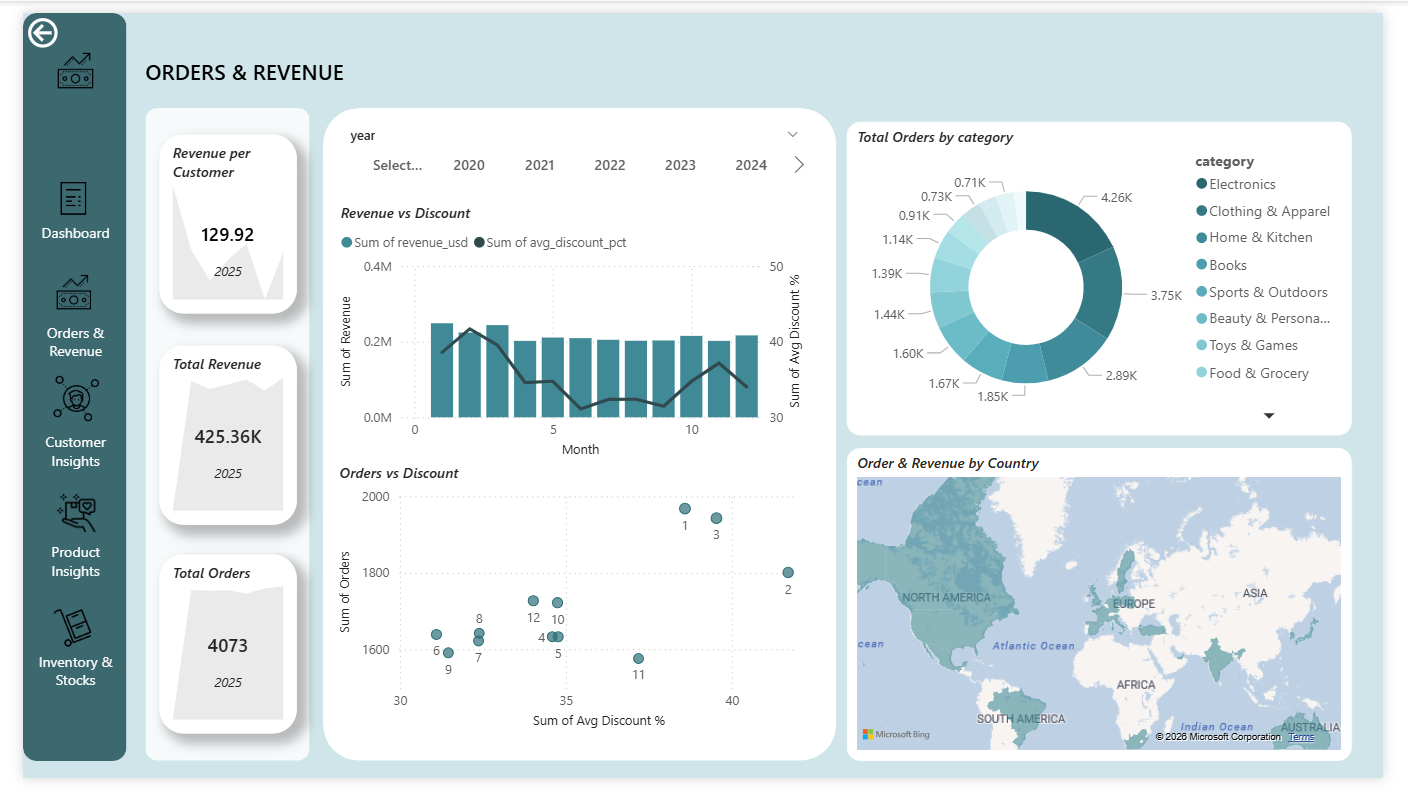

The dashboard page shown, as its layout file describes it:
{"tool":"powerbi","page":{"name":"Orders & Revenue","canvas":[1280,720],"ordinal":1},"visuals":[{"type":"shape","box":[115.6,89.6,154.5,614.3],"z":0},{"type":"kpi","title":"Revenue per Customer","fields":{"Indicator":["Date_Table.Revenue per Customer"],"TrendLine":["Date_Table.Year"]},"box":[128.6,114.3,129.9,168.8],"z":1000},{"type":"shape","box":[281.8,89.6,483.1,614.3],"z":2000},{"type":"filledMap","title":"Order & Revenue by Country","fields":{"Category":["customers.country"]},"box":[775.7,409,475.3,294.4],"z":3000},{"type":"donutChart","title":"Total Orders by category","fields":{"Category":["product_summary.category"],"Y":["product_summary.Total Orders (Category)"]},"box":[775.3,102.6,475.3,294.8],"z":4000},{"type":"scatterChart","title":"Orders vs Discount","fields":{"X":["Sum(monthly_revenue.avg_discount_pct)"],"Y":["Sum(monthly_revenue.orders)"],"Size":["Sum(monthly_revenue.revenue_usd)"],"Category":["monthly_revenue.month"]},"box":[293.2,423.5,448.8,254.6],"z":5000},{"type":"lineClusteredColumnComboChart","title":"Revenue vs Discount","fields":{"Category":["monthly_revenue.month"],"Y":["Sum(monthly_revenue.revenue_usd)"],"Y2":["Sum(monthly_revenue.avg_discount_pct)"]},"box":[294.4,178.6,447.6,244.9],"z":6000},{"type":"slicer","fields":{"Values":["monthly_revenue.year"]},"box":[295.6,102.5,446.4,62.7],"z":7000},{"type":"kpi","title":"Total Revenue","fields":{"TrendLine":["Date_Table.Year"],"Indicator":["monthly_revenue.Total Revenue"]},"box":[128.6,313,129.9,168.8],"z":8000},{"type":"kpi","title":"Total Orders","fields":{"TrendLine":["Date_Table.Year"],"Indicator":["orders.Total Orders"]},"box":[128.6,509.1,129.9,168.8],"z":9000},{"type":"shape","box":[0,0,97.4,703.9],"z":10000},{"type":"pageNavigator","box":[10.9,158,78.4,510.3],"z":11000},{"type":"image","box":[8.4,158,78.4,33.8],"z":12000},{"type":"image","box":[9.7,241.3,77.2,43.4],"z":13000},{"type":"image","box":[10.9,337.8,78.4,50.7],"z":14000},{"type":"image","box":[12.1,448.8,77.2,44.6],"z":15000},{"type":"image","box":[8.4,561,77.2,35],"z":16000},{"type":"image","box":[9.7,31.4,79.6,44.6],"z":17000},{"type":"shape","box":[115.8,25.3,359.5,57.9],"z":18000},{"type":"actionButton","box":[0,0,100.1,37.4],"z":19000}]}

Visuals, with their boxes on the page's 1280x720 design canvas (x1, y1, x2, y2). These are canvas units, not pixel positions in the 1408x801 screenshot, which may show the page scaled, cropped or inside an application window:
shape: detection(116, 90, 270, 704)
"Revenue per Customer" kpi: detection(129, 114, 258, 283)
shape: detection(282, 90, 765, 704)
"Order & Revenue by Country" filledMap: detection(776, 409, 1251, 703)
"Total Orders by category" donutChart: detection(775, 103, 1251, 397)
"Orders vs Discount" scatterChart: detection(293, 424, 742, 678)
"Revenue vs Discount" lineClusteredColumnComboChart: detection(294, 179, 742, 424)
slicer - monthly_revenue.year: detection(296, 102, 742, 165)
"Total Revenue" kpi: detection(129, 313, 258, 482)
"Total Orders" kpi: detection(129, 509, 258, 678)
shape: detection(0, 0, 97, 704)
pageNavigator: detection(11, 158, 89, 668)
image: detection(8, 158, 87, 192)
image: detection(10, 241, 87, 285)
image: detection(11, 338, 89, 388)
image: detection(12, 449, 89, 493)
image: detection(8, 561, 86, 596)
image: detection(10, 31, 89, 76)
shape: detection(116, 25, 475, 83)
actionButton: detection(0, 0, 100, 37)
